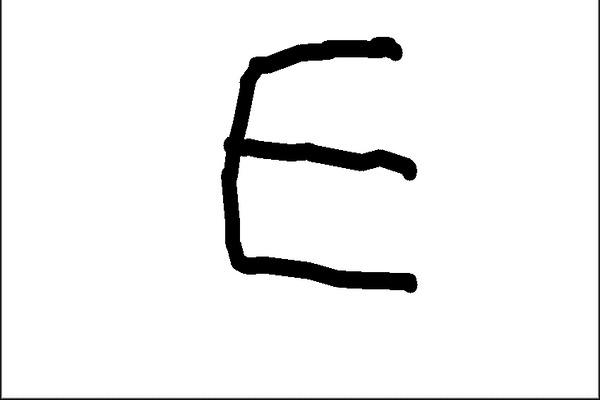E: (209, 25, 431, 300)
